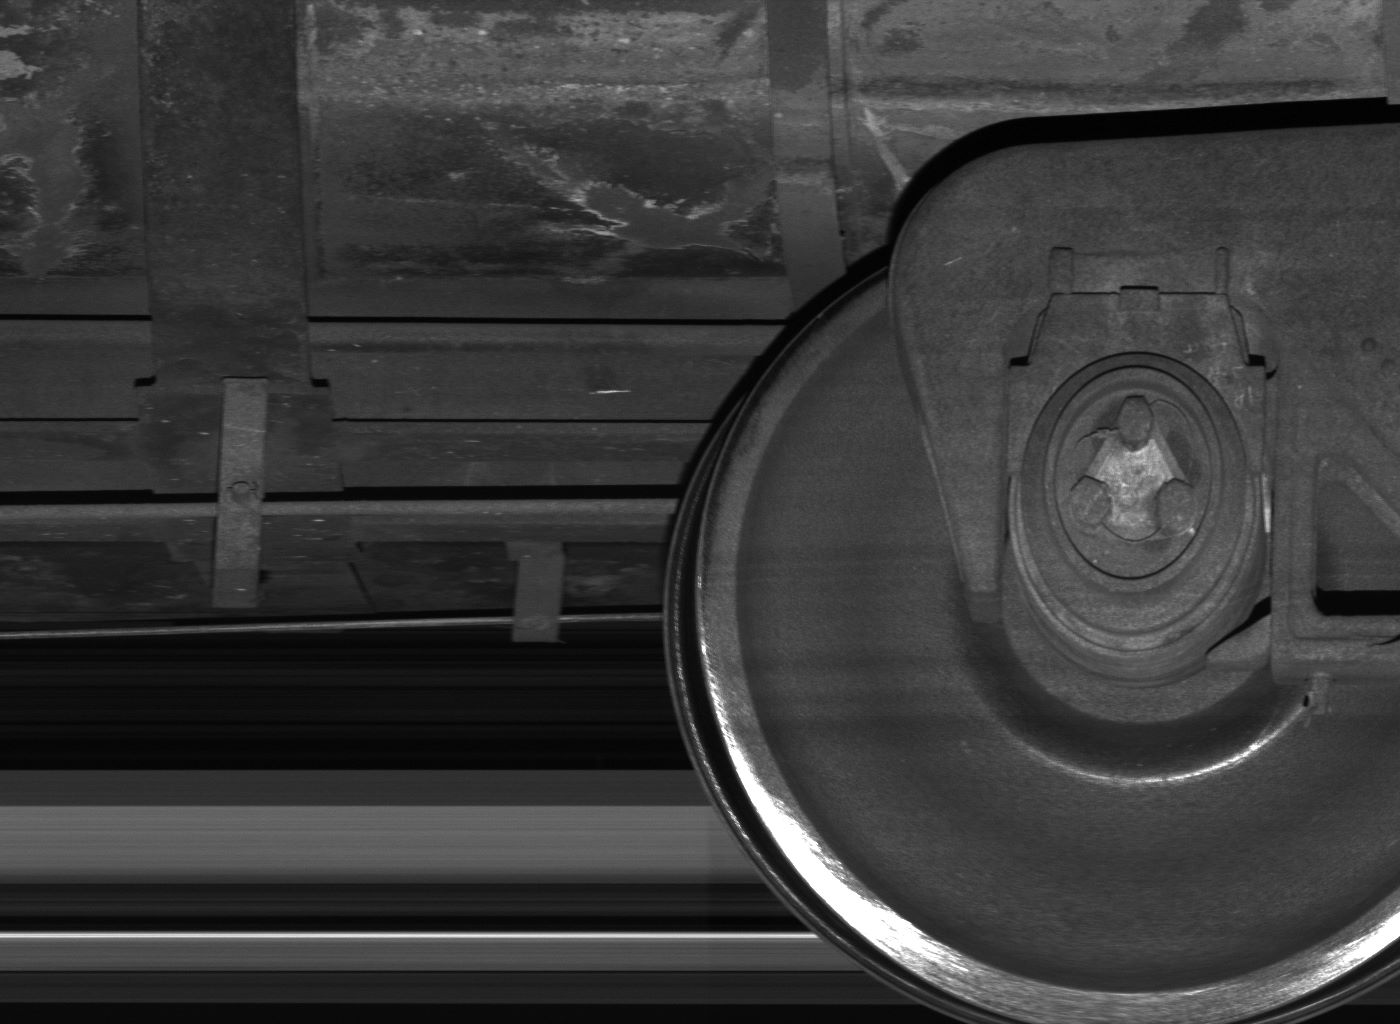normal: (216, 378, 268, 608), (511, 538, 563, 638)
